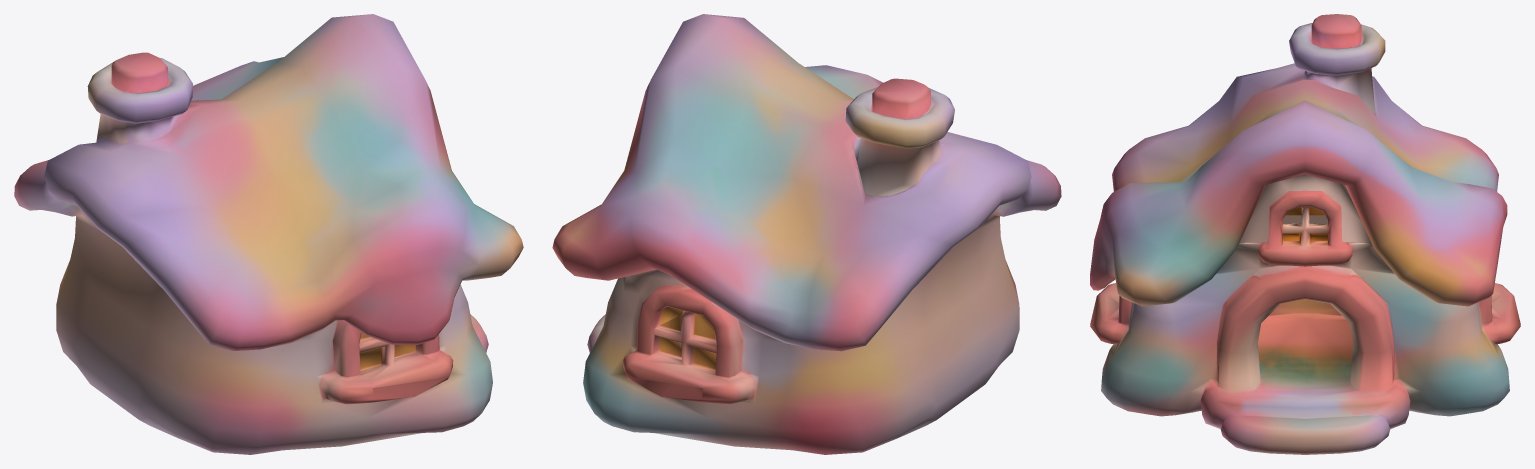
File: 圆润粉彩梦幻小屋.glb
3 renders of one model, left to right at view 1: azimuth 30°, elevation 25°; view 2: azimuth 150°, elevation 25°; view 3: azimuth 270°, elevation 25°, orthographic. The views are drawn at different scales.
Parts seen in each view (by area): view 1: tripo_node_50989c61-7e9a-4781-8e46-7edc23c5be4a; view 2: tripo_node_50989c61-7e9a-4781-8e46-7edc23c5be4a; view 3: tripo_node_50989c61-7e9a-4781-8e46-7edc23c5be4a.
Part boxes in pixels (x1,y1,x2,y2): tripo_node_50989c61-7e9a-4781-8e46-7edc23c5be4a: (14, 14, 523, 454); tripo_node_50989c61-7e9a-4781-8e46-7edc23c5be4a: (552, 14, 1061, 454); tripo_node_50989c61-7e9a-4781-8e46-7edc23c5be4a: (1090, 14, 1520, 454).
Size of the model in its own units: 0.953 by 0.7886 by 1.
Materials: 1 (1 with a texture image).
